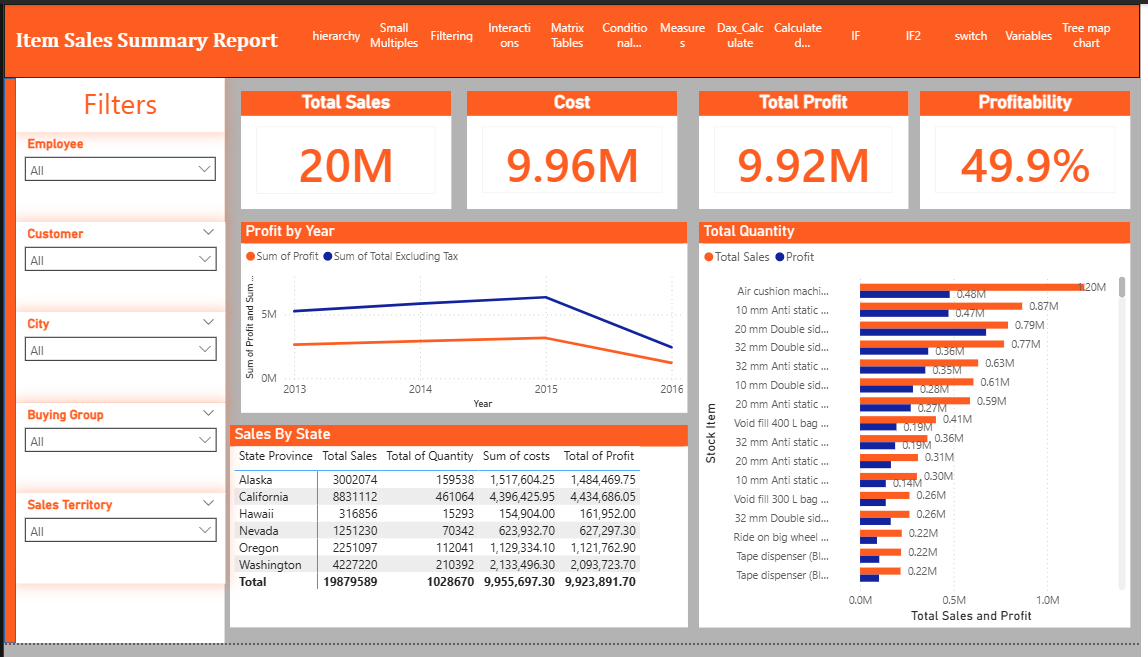

The dashboard page shown, as its layout file describes it:
{"tool":"powerbi","page":{"name":"Profit","canvas":[1280,720],"ordinal":15},"visuals":[{"type":"shape","box":[0,0,1280,83.4],"z":0},{"type":"shape","box":[0,83.4,13.6,637],"z":1000},{"type":"shape","box":[13.6,83.4,235.1,637],"z":2000},{"type":"textbox","box":[7.6,22.7,338.2,37.9],"z":3000},{"type":"cardVisual","title":"Total Sales","fields":{"Data":["Sum(FactSale.Total Excluding Tax)"]},"box":[266.9,97.8,236.6,133.5],"z":4000},{"type":"cardVisual","title":"Cost","fields":{"Data":["Sum(FactSale.costs)"]},"box":[522.1,98.1,237.3,132.9],"z":5000},{"type":"cardVisual","title":"Total Profit","fields":{"Data":["Sum(FactSale.Profit)"]},"box":[783.2,98.1,235.7,132.9],"z":6000},{"type":"cardVisual","title":"Profitability","fields":{"Data":["FactSale.Profitability"]},"box":[1031.6,98.1,237.3,132.9],"z":7000},{"type":"lineChart","title":"Profit by Year","fields":{"Category":["DimDate.Date.Variation.Date Hierarchy.Year","DimDate.Date.Variation.Date Hierarchy.Quarter","DimDate.Date.Variation.Date Hierarchy.Month","DimDate.Date.Variation.Date Hierarchy.Day"],"Y":["Sum(FactSale.Profit)","Sum(FactSale.Total Excluding Tax)"]},"box":[267.4,245.2,503.1,215.2],"z":8000},{"type":"clusteredBarChart","title":"Total Quantity","fields":{"Category":["DimStockItem.Stock Item"],"Y":["Sum(FactSale.Total Excluding Tax)","Sum(FactSale.Profit)"]},"box":[783.2,245.2,485.7,457.3],"z":9000},{"type":"pivotTable","title":"Sales By State","fields":{"Values":["Sum(FactSale.Total Excluding Tax)","Sum(FactSale.Quantity)","Sum(FactSale.costs)","Sum(FactSale.Profit)"],"Rows":["DimCity.State Province"]},"box":[254.7,474.7,515.8,227.8],"z":10000},{"type":"slicer","fields":{"Values":["DimEmployee.Employee"]},"box":[13.6,144.1,235.1,101.6],"z":11000},{"type":"textbox","box":[13.6,83.4,235.1,60.7],"z":12000},{"type":"slicer","fields":{"Values":["DimCustomer.Customer"]},"box":[14,245.6,235.6,101.8],"z":13000},{"type":"slicer","fields":{"Values":["DimCity.City"]},"box":[14,347.5,235.6,101.8],"z":14000},{"type":"slicer","fields":{"Values":["DimCustomer.Buying Group"]},"box":[14,449.3,235.6,101.8],"z":15000},{"type":"slicer","fields":{"Values":["DimCity.Sales Territory"]},"box":[14,551.1,235.6,101.8],"z":16000},{"type":"pageNavigator","box":[346.5,9.5,909.8,50.6],"z":17000}]}

Visuals, with their boxes on the page's 1280x720 design canvas (x1, y1, x2, y2). These are canvas units, not pixel positions in the 1148x657 screenshot, which may show the page scaled, cropped or inside an application window:
shape: Rect(0, 0, 1280, 83)
shape: Rect(0, 83, 14, 720)
shape: Rect(14, 83, 249, 720)
textbox: Rect(8, 23, 346, 61)
"Total Sales" cardVisual: Rect(267, 98, 504, 231)
"Cost" cardVisual: Rect(522, 98, 759, 231)
"Total Profit" cardVisual: Rect(783, 98, 1019, 231)
"Profitability" cardVisual: Rect(1032, 98, 1269, 231)
"Profit by Year" lineChart: Rect(267, 245, 770, 460)
"Total Quantity" clusteredBarChart: Rect(783, 245, 1269, 702)
"Sales By State" pivotTable: Rect(255, 475, 770, 702)
slicer - DimEmployee.Employee: Rect(14, 144, 249, 246)
textbox: Rect(14, 83, 249, 144)
slicer - DimCustomer.Customer: Rect(14, 246, 250, 347)
slicer - DimCity.City: Rect(14, 348, 250, 449)
slicer - DimCustomer.Buying Group: Rect(14, 449, 250, 551)
slicer - DimCity.Sales Territory: Rect(14, 551, 250, 653)
pageNavigator: Rect(346, 10, 1256, 60)
